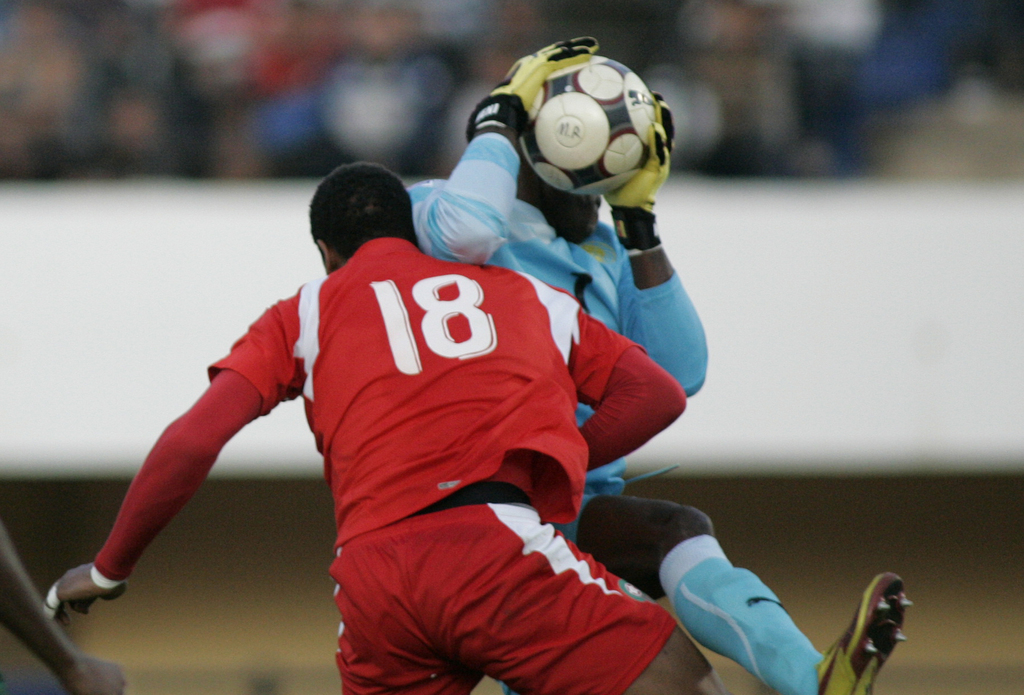Person: (41, 161, 734, 695), (403, 36, 912, 695), (0, 515, 126, 695)
